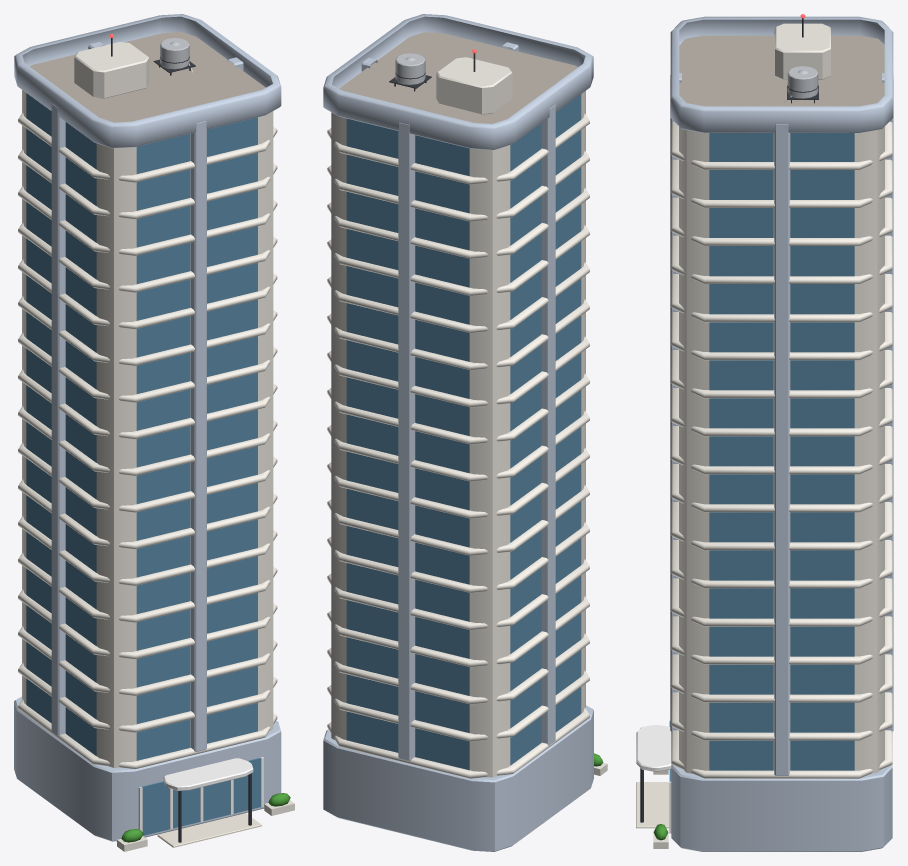
File: bld_condo.glb
3 renders of one model, left to right at view 1: azimuth 30°, elevation 25°; view 2: azimuth 150°, elevation 25°; view 3: azimuth 270°, elevation 25°, orthographic. The views are drawn at different scales.
Parts seen in each view (by area): view 1: body; view 2: body; view 3: body.
Part boxes in pixels (x1,y1,x2,y2): body: (14, 14, 294, 851); body: (323, 14, 607, 851); body: (636, 14, 893, 851).
Size of the model in its own units: 15.94 by 61.43 by 18.37.
